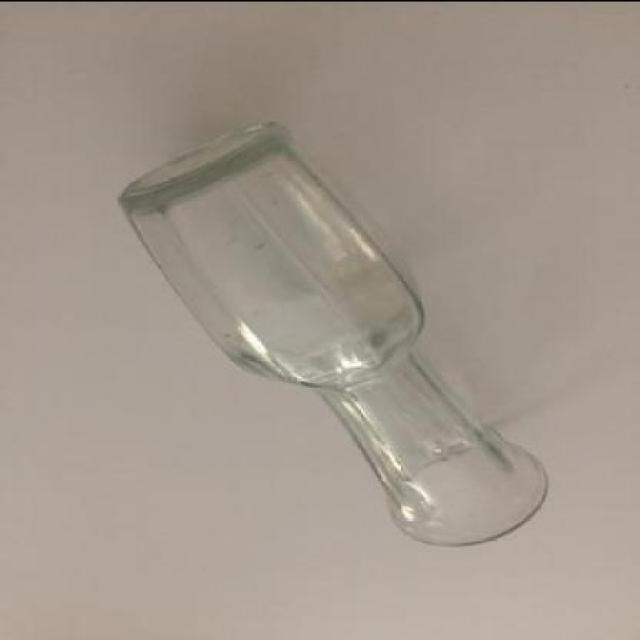GLASS: (113, 125, 547, 546)
